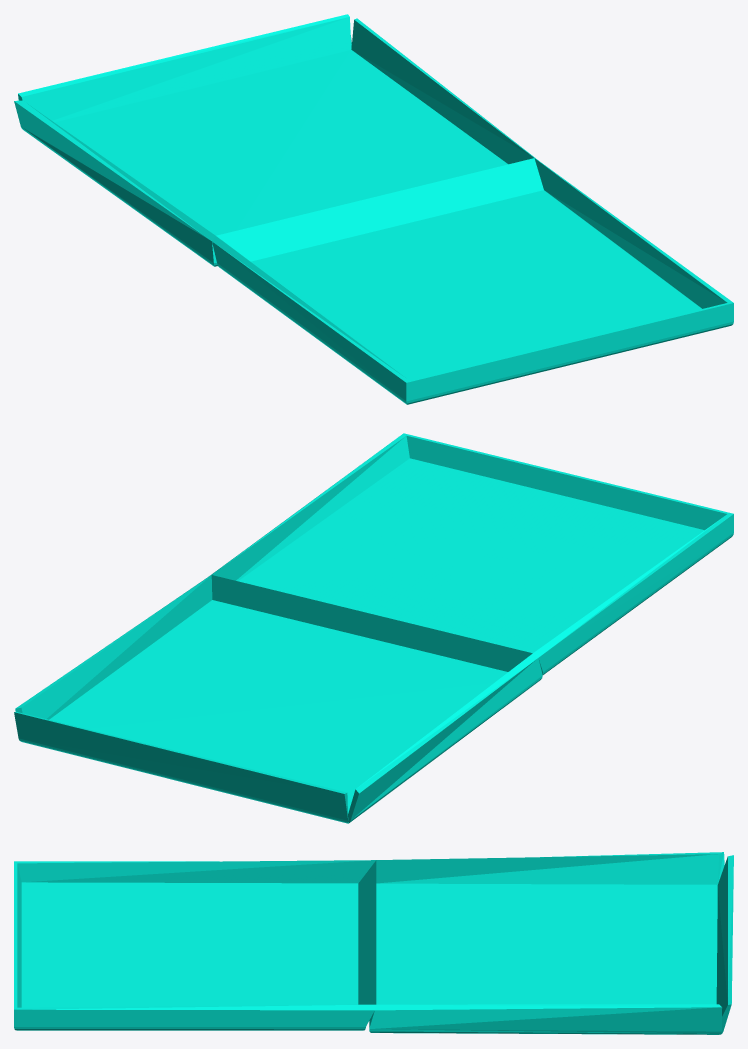
File: umgebung_pizzakarton_offen_low.FBX
The picture shows the model from 3 angles, top to bottom: view 1: azimuth 30°, elevation 25°; view 2: azimuth 150°, elevation 25°; view 3: azimuth 270°, elevation 25°; orthographic projection. The views are drawn at different scales.
Visible parts, largest first — view 1: o_pizzakarton_2_low; view 2: o_pizzakarton_2_low; view 3: o_pizzakarton_2_low.
Boxes of the visible parts, x1,y1,x2,y2 form: o_pizzakarton_2_low: [14, 14, 733, 404]; o_pizzakarton_2_low: [14, 433, 733, 823]; o_pizzakarton_2_low: [14, 852, 733, 1034].
Size of the model in its own units: 61.87 by 121 by 6.02.
